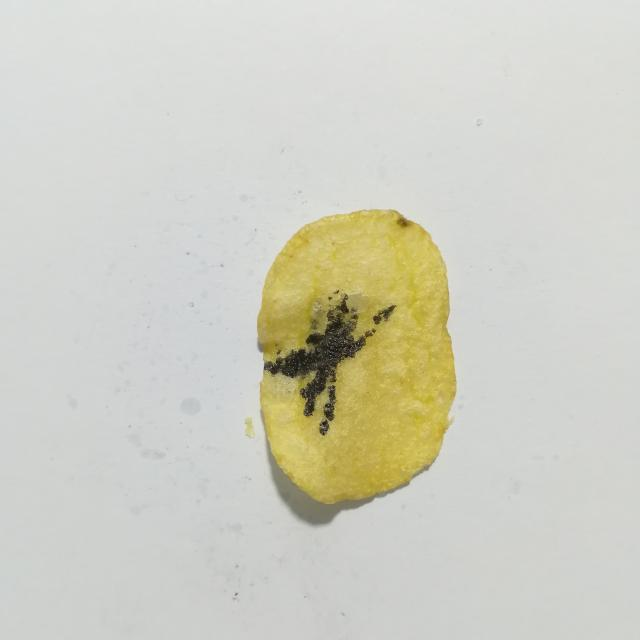chip: (257, 209, 456, 504)
damaged: (264, 294, 375, 416), (320, 386, 335, 435), (373, 305, 396, 324), (276, 350, 281, 354), (328, 296, 332, 300), (335, 290, 339, 294)
semi-damaged: (310, 302, 327, 332), (346, 294, 369, 313)
